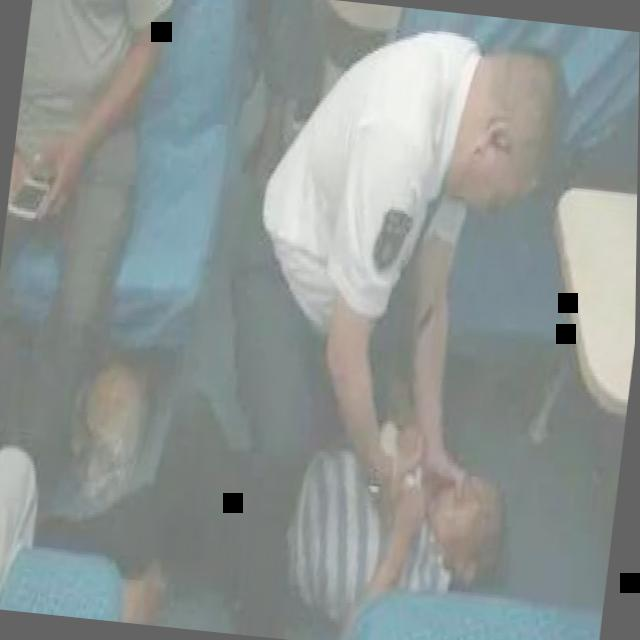Fall-Detected: (0, 312, 586, 640)
